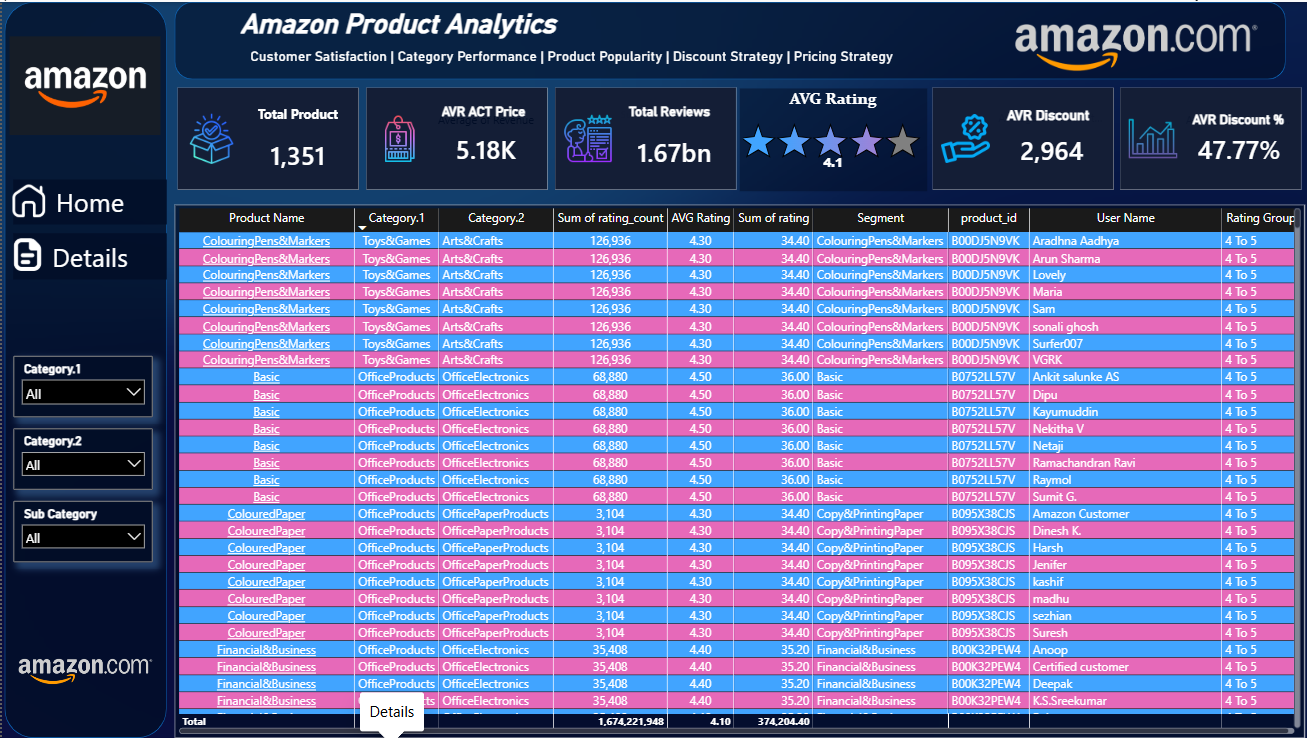

What the dashboard file says about the page in this screenshot:
{"tool":"powerbi","page":{"name":"Details","canvas":[1920,1080],"ordinal":2},"visuals":[{"type":"shape","box":[4,0,238,1080],"z":0},{"type":"shape","box":[253.1,0,1630.6,113.7],"z":1000},{"type":"textbox","title":"Amazon Product Analytics","box":[344.8,9.2,816.2,117.4],"z":2000},{"type":"textbox","title":"Customer Satisfaction   |   Category Performance   |   Product Popularity   |   Discount Strategy   |   Pricing Strategy","box":[359.5,67.9,1414.2,93.5],"z":3000},{"type":"cardVisual","title":"Total Product","fields":{"Data":["Count(Amazon DataSet.product_id)"]},"box":[253.1,120.3,275,159.6],"z":4000},{"type":"cardVisual","title":"Total Product","fields":{"Data":["Sum(Amazon DataSet.rating_count)"]},"box":[806.3,121.1,275,159.6],"z":5000},{"type":"PBI_CV_9053509D_D461_463A_B485_CE9F6AB0F13D","title":"AVG Rating","fields":{"value":["Amazon DataSet.AVG Rating"]},"box":[1082.9,126.6,275,151],"z":6000},{"type":"cardVisual","title":"Total Product","fields":{"Data":["Avg(Amazon DataSet.discounted_price)"]},"box":[1361.7,121.7,275,159.6],"z":7000},{"type":"cardVisual","title":"Total Product","fields":{"Data":["Avg(Amazon DataSet.discount_percentage)"]},"box":[1636.7,121.7,275,159.6],"z":8000},{"type":"textbox","title":"Total Reviews","box":[823.6,150.4,311.8,55],"z":9000},{"type":"textbox","title":"AVR Discount","box":[1379.4,154.1,311.8,64.2],"z":10000},{"type":"textbox","title":"AVR Discount %","box":[1716.9,161.4,194.4,64.2],"z":11000},{"type":"cardVisual","title":"Total Product","fields":{"Data":["Avg(Amazon DataSet.Revenue)"]},"box":[529.7,121.1,275,159.6],"z":12000},{"type":"textbox","title":"AVR ACT Price","box":[640.2,150.4,275.1,49.5],"z":13000},{"type":"tableEx","fields":{"Values":["Amazon DataSet.Product Name","Amazon DataSet.Category.1","Amazon DataSet.Category.2","Sum(Amazon DataSet.rating_count)","Amazon DataSet.AVG Rating","Sum(Amazon DataSet.rating)","Amazon DataSet.Segment","Amazon DataSet.product_id","Amazon DataSet.User Name","Amazon DataSet.Rating Group"]},"box":[253.1,297.1,1658.2,783.2],"z":14000},{"type":"actionButton","title":"Home","box":[16.5,260.5,225.6,66],"z":15000},{"type":"actionButton","title":"Home","box":[16.5,339.3,225.6,67.9],"z":16000},{"type":"image","box":[7.3,267.8,64.2,47.7],"z":17000},{"type":"image","box":[5.5,346.7,64.2,47.7],"z":18000},{"type":"slicer","fields":{"Values":["Amazon DataSet.Category.1"]},"box":[16,520,205,90],"z":19000},{"type":"slicer","fields":{"Values":["Amazon DataSet.Category.2"]},"box":[16,626,205,90],"z":20000},{"type":"slicer","fields":{"Values":["Amazon DataSet.Sub Category"]},"box":[16,732,205,90],"z":21000},{"type":"image","box":[16.5,904.3,205.4,150.4],"z":22000},{"type":"image","box":[11,0,221.9,245.8],"z":23000},{"type":"image","box":[1472.9,14.7,372.4,93.5],"z":24000}]}

Visuals, with their boxes on the page's 1920x1080 design canvas (x1, y1, x2, y2). These are canvas units, not pixel positions in the 1307x738 screenshot, which may show the page scaled, cropped or inside an application window:
shape: {"x1": 4, "y1": 0, "x2": 242, "y2": 1080}
shape: {"x1": 253, "y1": 0, "x2": 1884, "y2": 114}
"Amazon Product Analytics" textbox: {"x1": 345, "y1": 9, "x2": 1161, "y2": 127}
"Customer Satisfaction   |   Category Performance   |   Product Popularity   |   Discount Strategy   |   Pricing Strategy" textbox: {"x1": 360, "y1": 68, "x2": 1774, "y2": 161}
"Total Product" cardVisual: {"x1": 253, "y1": 120, "x2": 528, "y2": 280}
"Total Product" cardVisual: {"x1": 806, "y1": 121, "x2": 1081, "y2": 281}
"AVG Rating" PBI_CV_9053509D_D461_463A_B485_CE9F6AB0F13D: {"x1": 1083, "y1": 127, "x2": 1358, "y2": 278}
"Total Product" cardVisual: {"x1": 1362, "y1": 122, "x2": 1637, "y2": 281}
"Total Product" cardVisual: {"x1": 1637, "y1": 122, "x2": 1912, "y2": 281}
"Total Reviews" textbox: {"x1": 824, "y1": 150, "x2": 1135, "y2": 205}
"AVR Discount" textbox: {"x1": 1379, "y1": 154, "x2": 1691, "y2": 218}
"AVR Discount %" textbox: {"x1": 1717, "y1": 161, "x2": 1911, "y2": 226}
"Total Product" cardVisual: {"x1": 530, "y1": 121, "x2": 805, "y2": 281}
"AVR ACT Price" textbox: {"x1": 640, "y1": 150, "x2": 915, "y2": 200}
tableEx - Amazon DataSet.Product Name x Amazon DataSet.Category.1: {"x1": 253, "y1": 297, "x2": 1911, "y2": 1080}
"Home" actionButton: {"x1": 16, "y1": 260, "x2": 242, "y2": 326}
"Home" actionButton: {"x1": 16, "y1": 339, "x2": 242, "y2": 407}
image: {"x1": 7, "y1": 268, "x2": 72, "y2": 316}
image: {"x1": 6, "y1": 347, "x2": 70, "y2": 394}
slicer - Amazon DataSet.Category.1: {"x1": 16, "y1": 520, "x2": 221, "y2": 610}
slicer - Amazon DataSet.Category.2: {"x1": 16, "y1": 626, "x2": 221, "y2": 716}
slicer - Amazon DataSet.Sub Category: {"x1": 16, "y1": 732, "x2": 221, "y2": 822}
image: {"x1": 16, "y1": 904, "x2": 222, "y2": 1055}
image: {"x1": 11, "y1": 0, "x2": 233, "y2": 246}
image: {"x1": 1473, "y1": 15, "x2": 1845, "y2": 108}
